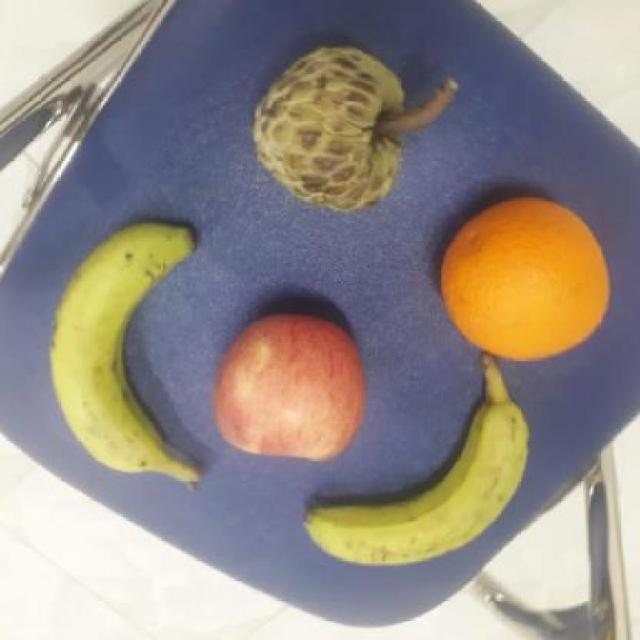apple: (209, 305, 369, 463)
banana: (302, 392, 533, 572), (57, 219, 205, 490)
oren: (438, 197, 614, 366)
sugar apple: (252, 45, 406, 213)
